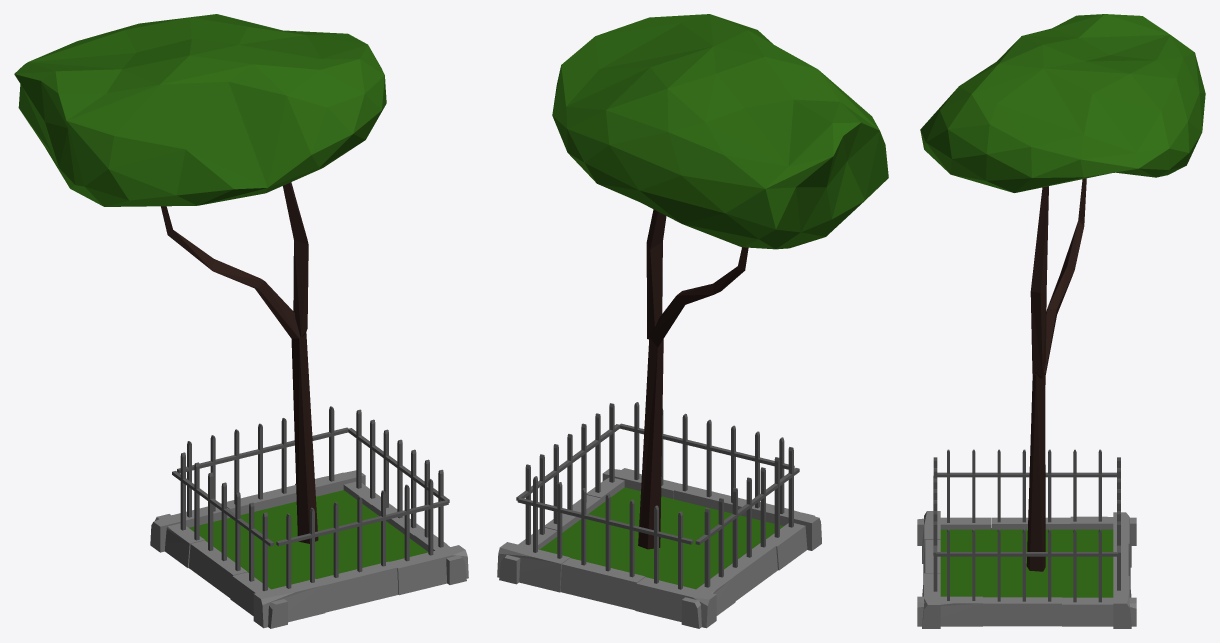
File: SM_tree_box.fbx
3 views of the same model, side by side, from view 1: azimuth 30°, elevation 25°; view 2: azimuth 150°, elevation 25°; view 3: azimuth 270°, elevation 25° (orthographic). The views are drawn at different scales.
Parts seen in each view (by area): view 1: Box5818; view 2: Box5818; view 3: Box5818.
Part boxes in pixels (left/top/right/bottom): Box5818: left=14, top=14, right=468, bottom=628; Box5818: left=497, top=14, right=888, bottom=628; Box5818: left=917, top=14, right=1205, bottom=628.
Bounding box in the file's own units: 163 × 245 × 131.
